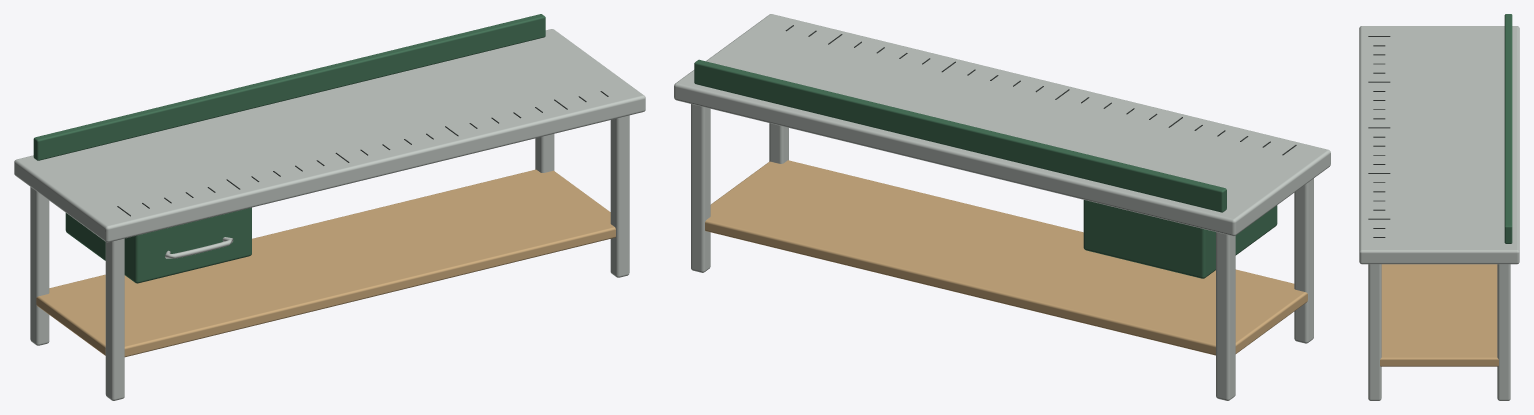
Rendered from sawmill-and-timber-yard-board-grading-bench-03842d04__31193.glb.
The picture shows the model from 3 angles, left to right: view 1: azimuth 30°, elevation 25°; view 2: azimuth 150°, elevation 25°; view 3: azimuth 270°, elevation 25°; orthographic projection. The views are drawn at different scales.
Visible parts, largest first — view 1: board-grading-bench; view 2: board-grading-bench; view 3: board-grading-bench.
Boxes of the visible parts, <box> form: board-grading-bench: <box>14,14,645,400</box>; board-grading-bench: <box>674,14,1330,400</box>; board-grading-bench: <box>1359,14,1519,400</box>.
Bounding box in the file's own units: 2.4 × 0.86 × 0.7199.
